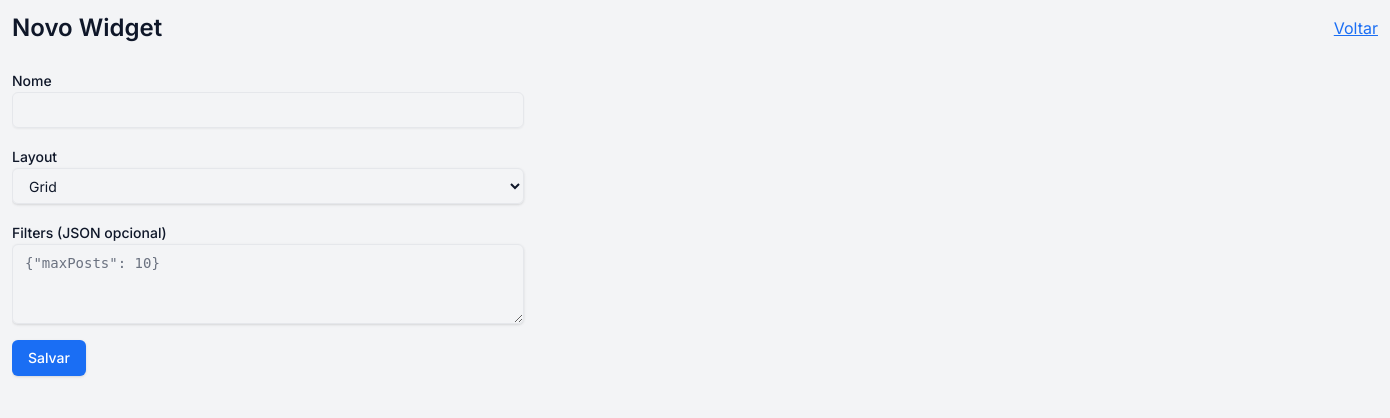
Test: WidgetForm › blocks create until the name is valid
The image size is (1390, 418).
Step 1. Click the button "Salvar" → (49, 358), box [12,340,86,376]
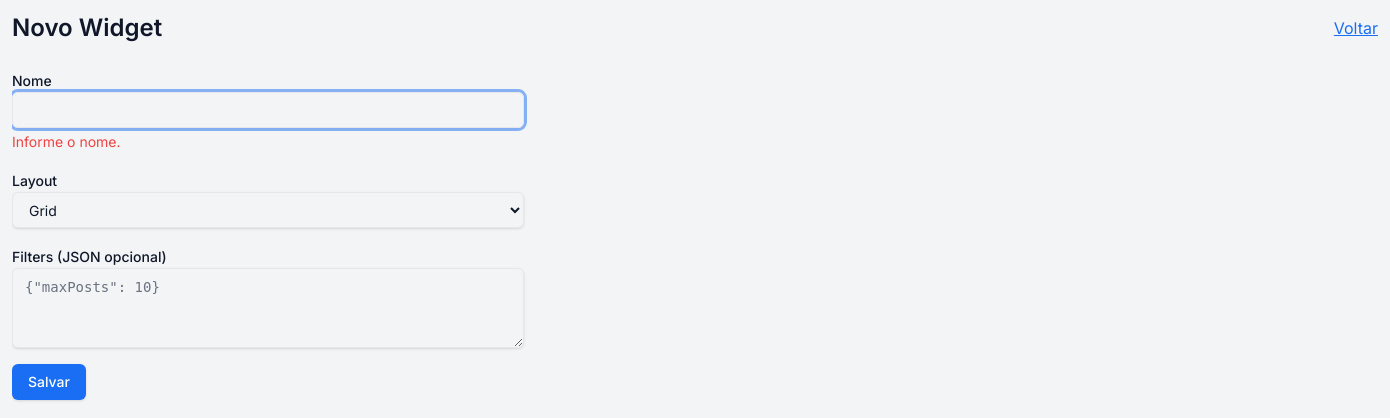
Expected: the text "Informe o nome." is shown, [12,133,120,150]
